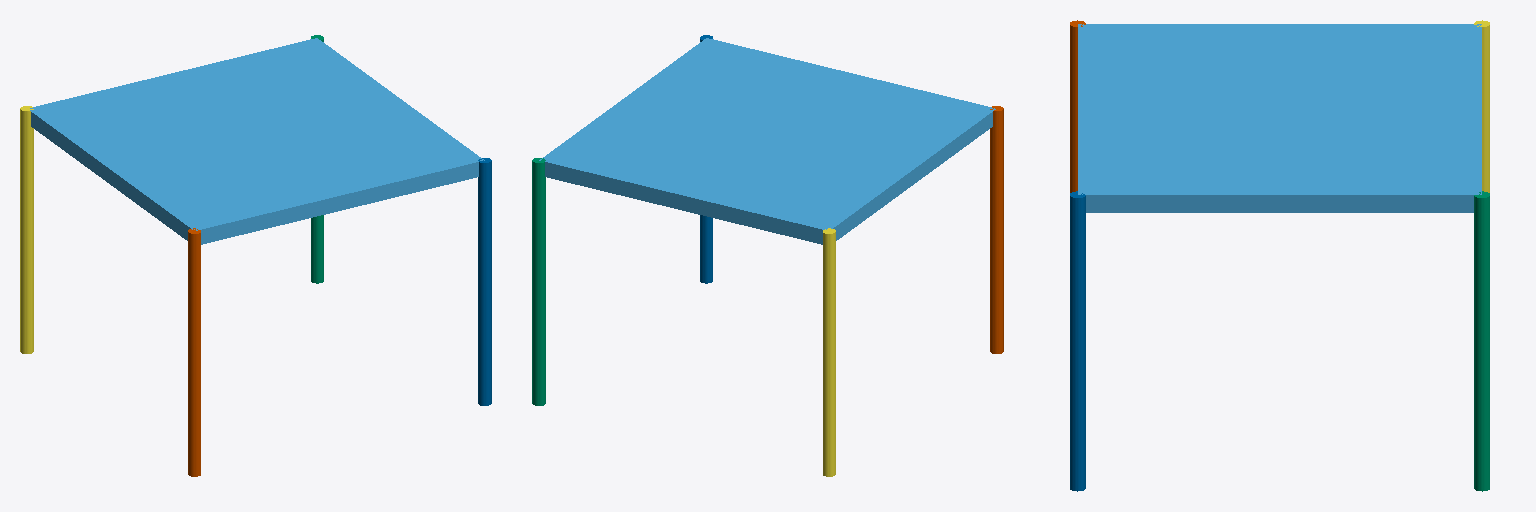
URDF robot description (table):
<?xml version="1.0" ?>
<!-- =================================================================================== -->
<!-- |    This document was autogenerated by xacro from table.urdf.xacro               | -->
<!-- |    EDITING THIS FILE BY HAND IS NOT RECOMMENDED                                 | -->
<!-- =================================================================================== -->
<robot name="table" xmlns:body="http://playerstage.sourceforge.net/gazebo/xmlschema/#body" xmlns:controller="http://playerstage.sourceforge.net/gazebo/xmlschema/#controller" xmlns:gazebo="http://playerstage.sourceforge.net/gazebo/xmlschema/#gz" xmlns:geom="http://playerstage.sourceforge.net/gazebo/xmlschema/#geom" xmlns:interface="http://playerstage.sourceforge.net/gazebo/xmlschema/#interface" xmlns:joint="http://playerstage.sourceforge.net/gazebo/xmlschema/#joint" xmlns:model="http://playerstage.sourceforge.net/gazebo/xmlschema/#model" xmlns:physics="http://playerstage.sourceforge.net/gazebo/xmlschema/#physics" xmlns:renderable="http://playerstage.sourceforge.net/gazebo/xmlschema/#renderable" xmlns:rendering="http://playerstage.sourceforge.net/gazebo/xmlschema/#rendering" xmlns:sensor="http://playerstage.sourceforge.net/gazebo/xmlschema/#sensor" xmlns:xi="http://www.w3.org/2001/XInclude">
  <property name="table_height" value="0.8"/>
  <property name="table_width" value="1.0"/>
  <property name="1.0" value="1.0"/>
  <property name="leg_radius" value="0.02"/>
  <property name="table_x" value="0.98"/>
  <property name="0.0" value="0.0"/>
  <property name="0.0" value="0.0"/>
  <property name="table_top_thickness" value="0.05"/>
  <property name="M_PI" value="3.1415926535897931"/>
  <link name="base_link"/>
  <joint name="table_top_link_ro_base_link" type="fixed">
    <parent link="table_top_link"/>
    <origin rpy="0 0 0" xyz="0.98 0.0 0.775"/>
    <child link="base_link"/>
  </joint>
  <!-- tabletop height is .55+.01+.025=.585 -->
  <link name="table_top_link">
    <inertial>
      <mass value="1.0"/>
      <origin xyz="0.98 0.0 0.775"/>
      <inertia ixx="1" ixy="0" ixz="0" iyy="1" iyz="0" izz="1"/>
    </inertial>
    <visual>
      <origin xyz="0.98 0.0 0.775"/>
      <geometry>
        <box size="1.0 1.0 0.05"/>
      </geometry>
    </visual>
    <collision>
      <origin xyz="0.98 0.0 0.775"/>
      <geometry>
        <box size="1.0 1.0 0.05"/>
      </geometry>
    </collision>
  </link>
  <joint name="leg1_joint" type="fixed">
    <parent link="table_top_link"/>
    <origin rpy="0 0 0" xyz="1.48 0.5 0.8"/>
    <child link="leg1_link"/>
  </joint>
  <link name="leg1_link">
    <inertial>
      <mass value="1.0"/>
      <origin xyz="0 0 -0.4"/>
      <inertia ixx="0.1" ixy="0" ixz="0" iyy="0.1" iyz="0" izz="0.01"/>
    </inertial>
    <visual>
      <origin rpy="0 0 0" xyz="0.0 0.0 -0.4"/>
      <geometry>
        <cylinder length="0.8" radius="0.02"/>
      </geometry>
    </visual>
    <collision>
      <origin rpy="0.0 0.0 0.0" xyz="0.0 0.0 -0.4"/>
      <geometry>
        <cylinder length="0.8" radius="0.02"/>
      </geometry>
    </collision>
  </link>
  <joint name="leg2_joint" type="fixed">
    <parent link="table_top_link"/>
    <origin rpy="0 0 0" xyz="0.48 0.5 0.8"/>
    <child link="leg2_link"/>
  </joint>
  <link name="leg2_link">
    <inertial>
      <mass value="1.0"/>
      <origin xyz="0 0 -0.4"/>
      <inertia ixx="0.1" ixy="0" ixz="0" iyy="0.1" iyz="0" izz="0.01"/>
    </inertial>
    <visual>
      <origin rpy="0 0 0" xyz="0.0 0.0 -0.4"/>
      <geometry>
        <cylinder length="0.8" radius="0.02"/>
      </geometry>
    </visual>
    <collision>
      <origin rpy="0.0 0.0 0.0" xyz="0.0 0.0 -0.4"/>
      <geometry>
        <cylinder length="0.8" radius="0.02"/>
      </geometry>
    </collision>
  </link>
  <joint name="leg3_joint" type="fixed">
    <parent link="table_top_link"/>
    <origin rpy="0 0 0" xyz="1.48 -0.5 0.8"/>
    <child link="leg3_link"/>
  </joint>
  <link name="leg3_link">
    <inertial>
      <mass value="1.0"/>
      <origin xyz="0 0 -0.4"/>
      <inertia ixx="0.1" ixy="0" ixz="0" iyy="0.1" iyz="0" izz="0.01"/>
    </inertial>
    <visual>
      <origin rpy="0 0 0" xyz="0.0 0.0 -0.4"/>
      <geometry>
        <cylinder length="0.8" radius="0.02"/>
      </geometry>
    </visual>
    <collision>
      <origin rpy="0.0 0.0 0.0" xyz="0.0 0.0 -0.4"/>
      <geometry>
        <cylinder length="0.8" radius="0.02"/>
      </geometry>
    </collision>
  </link>
  <joint name="leg4_joint" type="fixed">
    <parent link="table_top_link"/>
    <origin rpy="0 0 0" xyz="0.48 -0.5 0.8"/>
    <child link="leg4_link"/>
  </joint>
  <link name="leg4_link">
    <inertial>
      <mass value="1.0"/>
      <origin xyz="0 0 -0.4"/>
      <inertia ixx="0.1" ixy="0" ixz="0" iyy="0.1" iyz="0" izz="0.01"/>
    </inertial>
    <visual>
      <origin rpy="0 0 0" xyz="0.0 0.0 -0.4"/>
      <geometry>
        <cylinder length="0.8" radius="0.02"/>
      </geometry>
    </visual>
    <collision>
      <origin rpy="0.0 0.0 0.0" xyz="0.0 0.0 -0.4"/>
      <geometry>
        <cylinder length="0.8" radius="0.02"/>
      </geometry>
    </collision>
  </link>
</robot>

--- Render facts (derived) ---
The picture shows the robot from 3 angles, left to right: view 1: azimuth 30°, elevation 25°; view 2: azimuth 150°, elevation 25°; view 3: azimuth 270°, elevation 25°; orthographic projection.
Robot: table — 6 links, 5 joints (5 fixed); root link table_top_link; default pose: all joints at 0.
Visible links, largest first — view 1: table_top_link, leg3_link, leg2_link, leg4_link, leg1_link; view 2: table_top_link, leg1_link, leg4_link, leg2_link, leg3_link; view 3: table_top_link, leg1_link, leg3_link, leg2_link, leg4_link.
Link boxes in pixels (x1,y1,x2,y2): table_top_link: (30,38,484,244); leg3_link: (478,158,491,405); leg2_link: (20,106,33,353); leg4_link: (188,228,200,476); leg1_link: (311,35,323,283); table_top_link: (539,38,995,244); leg1_link: (532,158,545,405); leg4_link: (990,106,1003,353); leg2_link: (823,228,835,476); leg3_link: (700,35,712,283); table_top_link: (1078,24,1481,212); leg1_link: (1474,191,1489,491); leg3_link: (1070,191,1085,491); leg2_link: (1474,20,1489,192); leg4_link: (1070,20,1085,192).
Bounding box of the posed robot: 1.04 × 1.04 × 0.8 m (x, y, z).
Geometry: primitives only (box / cylinder / sphere), no mesh files.